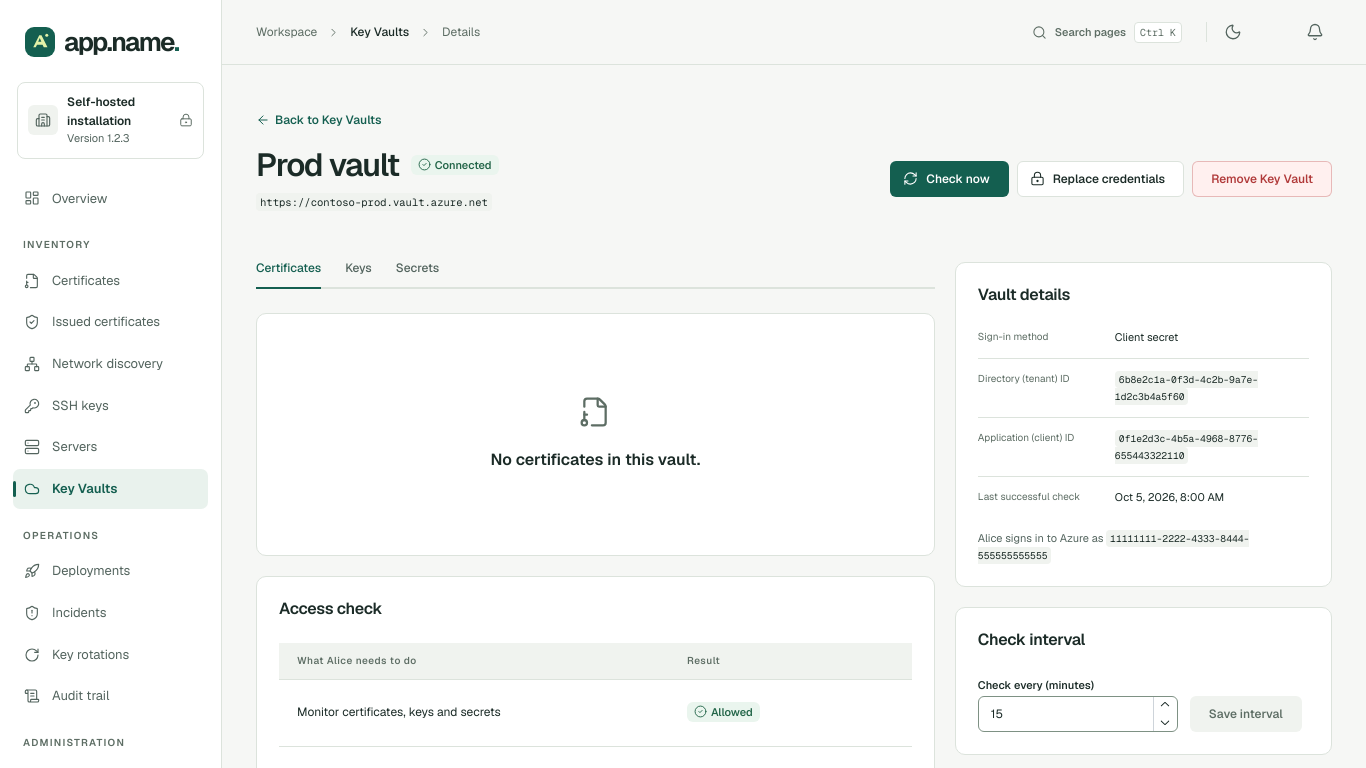
Test: KeyVaultDetailPage header › actions › an Administrator changes the interval with If-Match and sees it saved
The image size is (1366, 768).
Expected: the button "Save interval" is disabled, [1190,696,1302,732]
Step 1. Replace the text in the field labelled "Check every (minutes)" with "30" → point(1078, 714), box [978,696,1178,732]
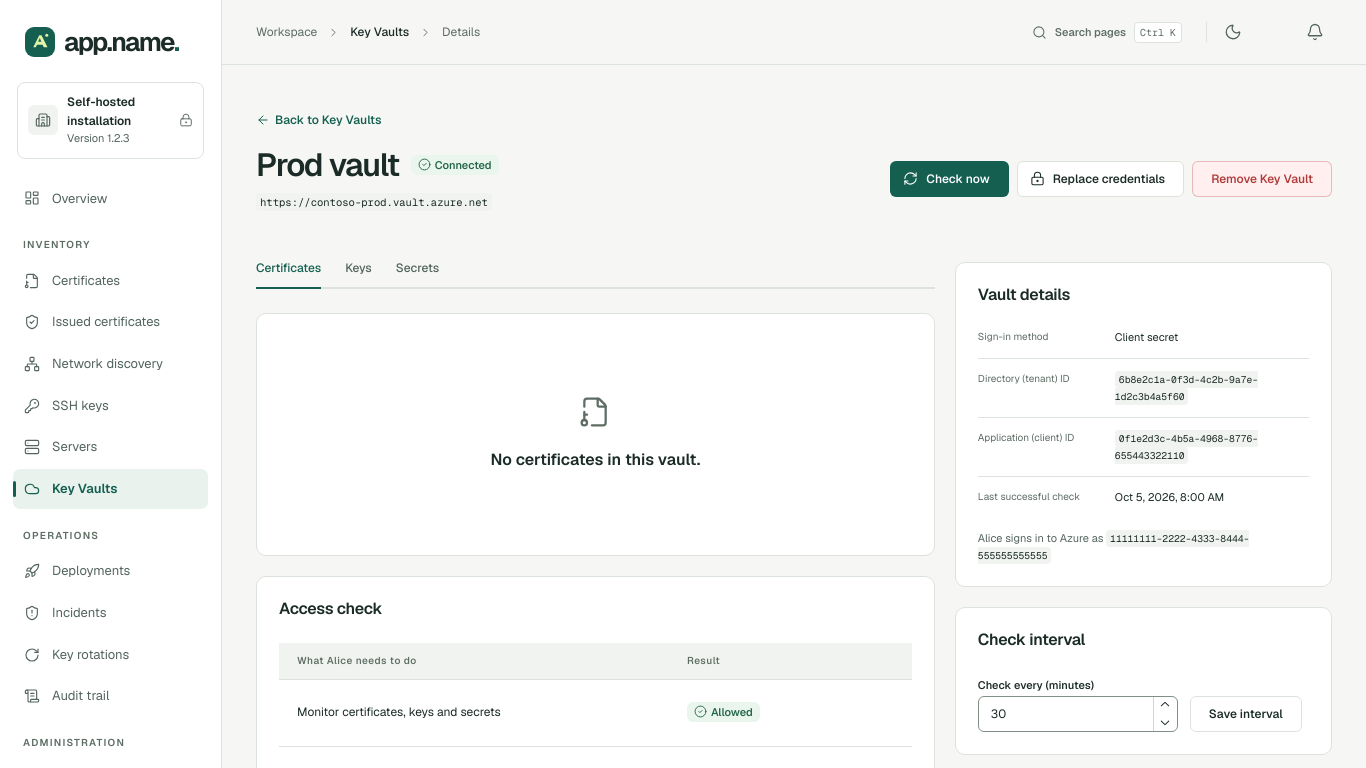
Step 2. Click the button "Save interval" → point(1246, 714), box [1190,696,1302,732]
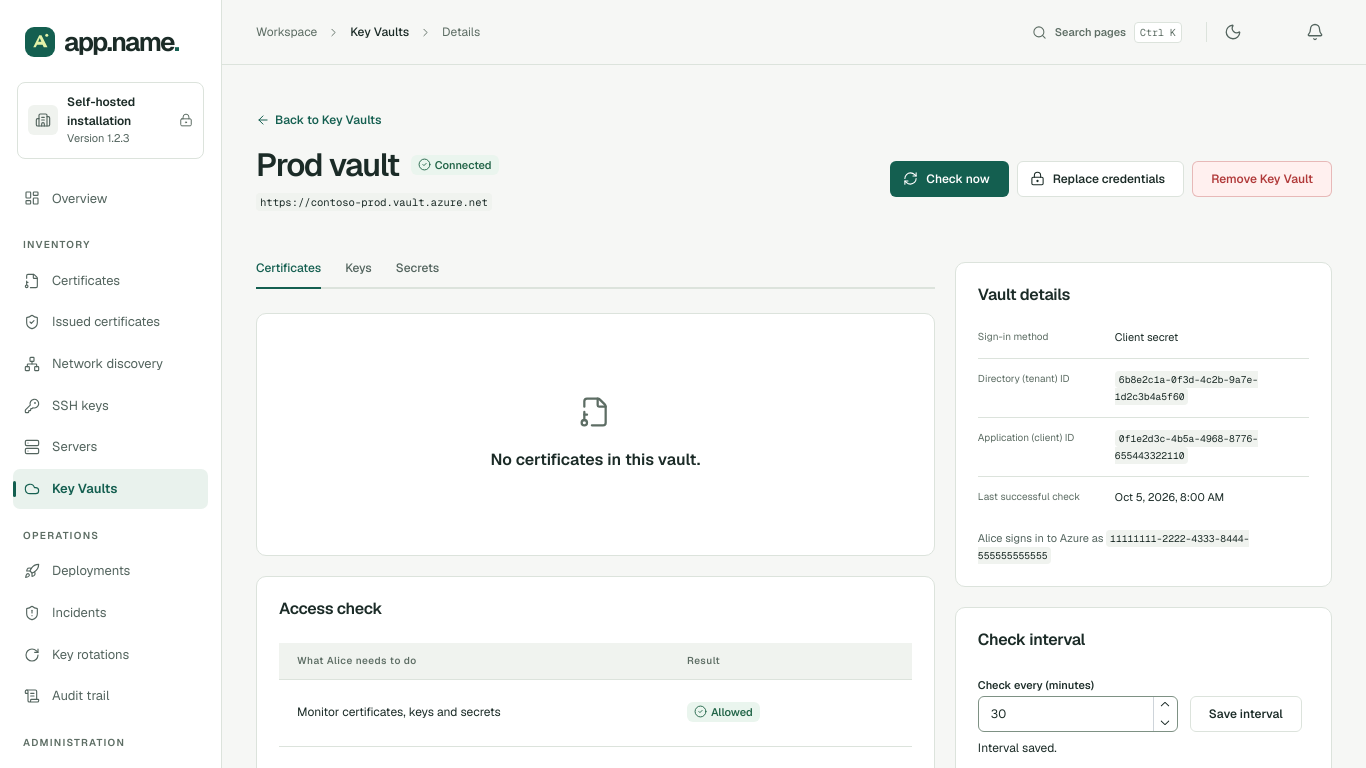
Expected: the text "Interval saved." is shown, [978,740,1057,756]
